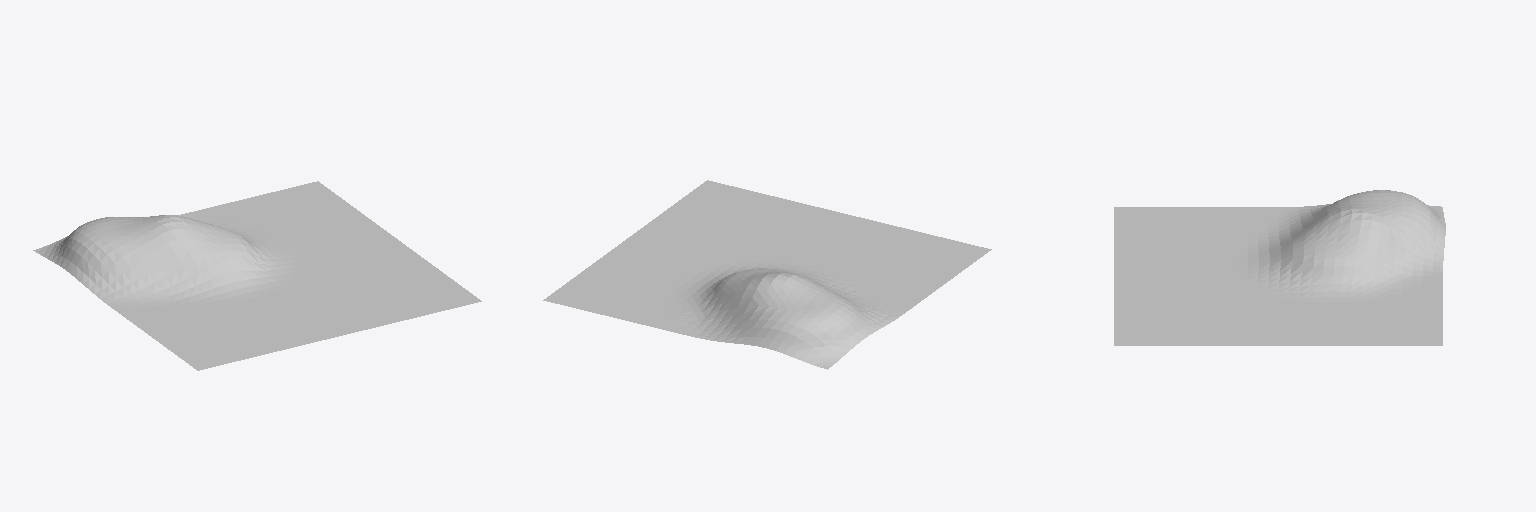
Rendered from terrain_hill2.obj.
3 views of the same model, side by side, from view 1: azimuth 30°, elevation 25°; view 2: azimuth 150°, elevation 25°; view 3: azimuth 270°, elevation 25° (orthographic).
Size of the model in its own units: 2.02 by 0.266 by 2.02.